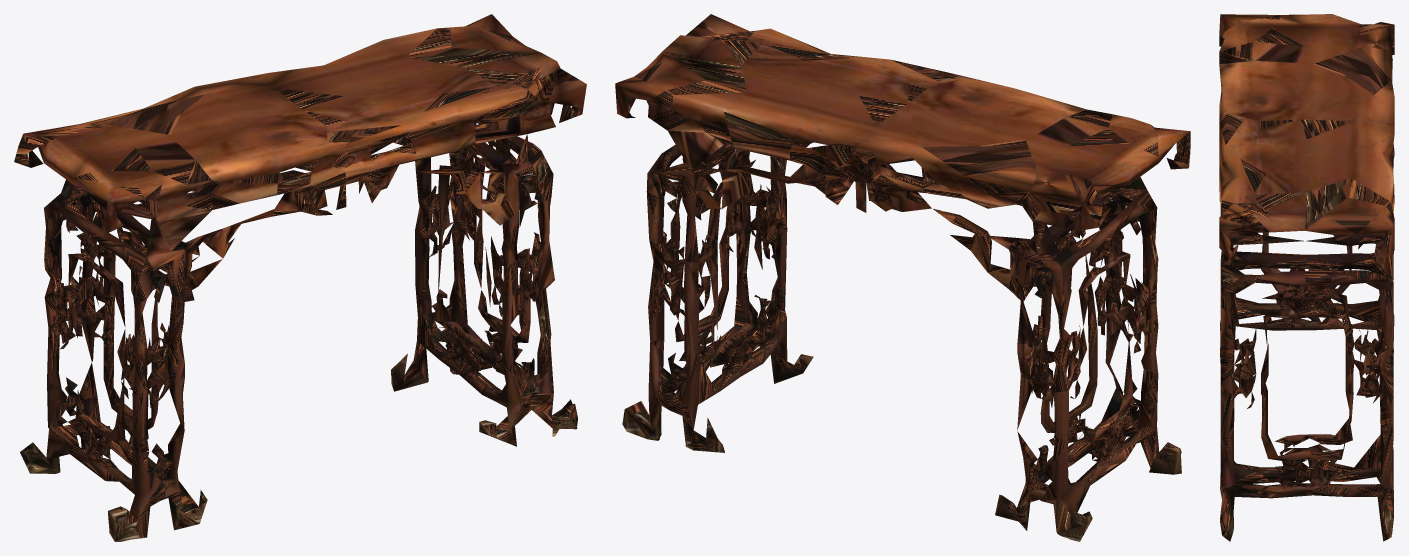
The model's file is pr_table_ming.glb.
The picture shows the model from 3 angles, left to right: view 1: azimuth 30°, elevation 25°; view 2: azimuth 150°, elevation 25°; view 3: azimuth 270°, elevation 25°; orthographic projection. The views are drawn at different scales.
Size of the model in its own units: 1.9 by 1.32 by 0.6583.
1 material, 1 textured.
